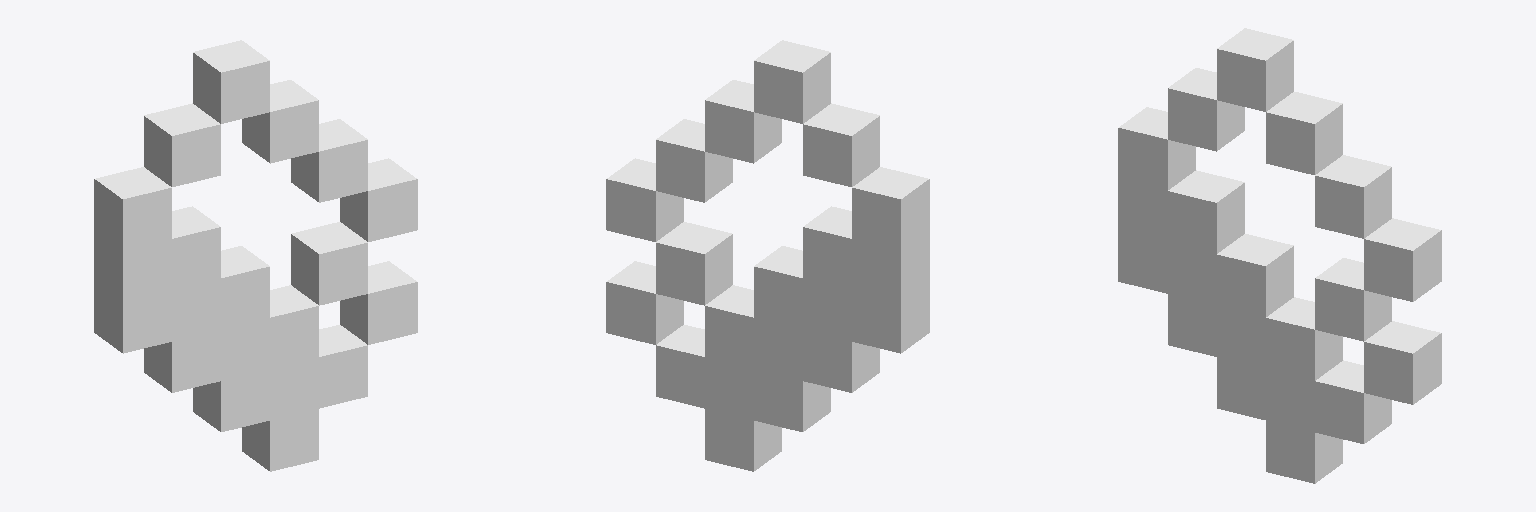
The model's file is Book-War-Pink.vox.obj.
3 views of the same model, side by side, from view 1: azimuth 30°, elevation 25°; view 2: azimuth 150°, elevation 25°; view 3: azimuth 330°, elevation 25° (orthographic).
Visible parts, largest first — view 1: object 1; view 2: object 1; view 3: object 1.
Part boxes in pixels (bbox=[...]): object 1: bbox=[94, 40, 417, 471]; object 1: bbox=[606, 40, 929, 471]; object 1: bbox=[1118, 28, 1441, 483].
Size of the model in its own units: 0.6 by 0.8 by 0.1.